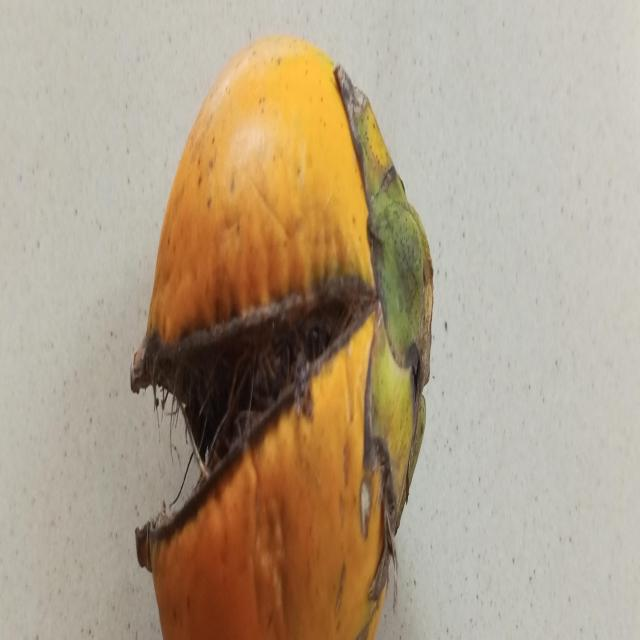damaged: (130, 36, 435, 640)
